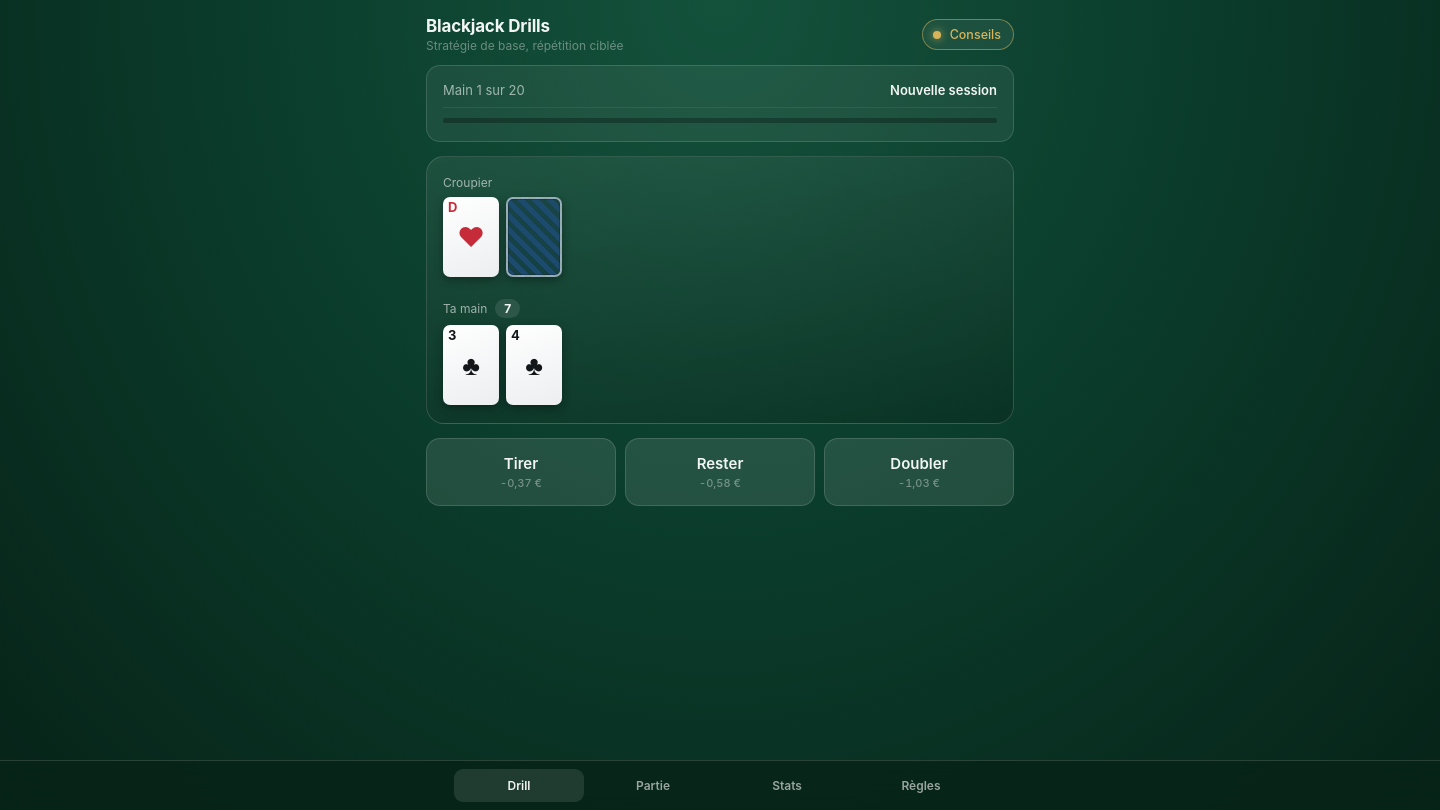
Test case: mode partie › avertit avant de valider un coup perdant quand les conseils sont actifs
Click the button "Partie" at (653, 786), box [588,769,718,802]
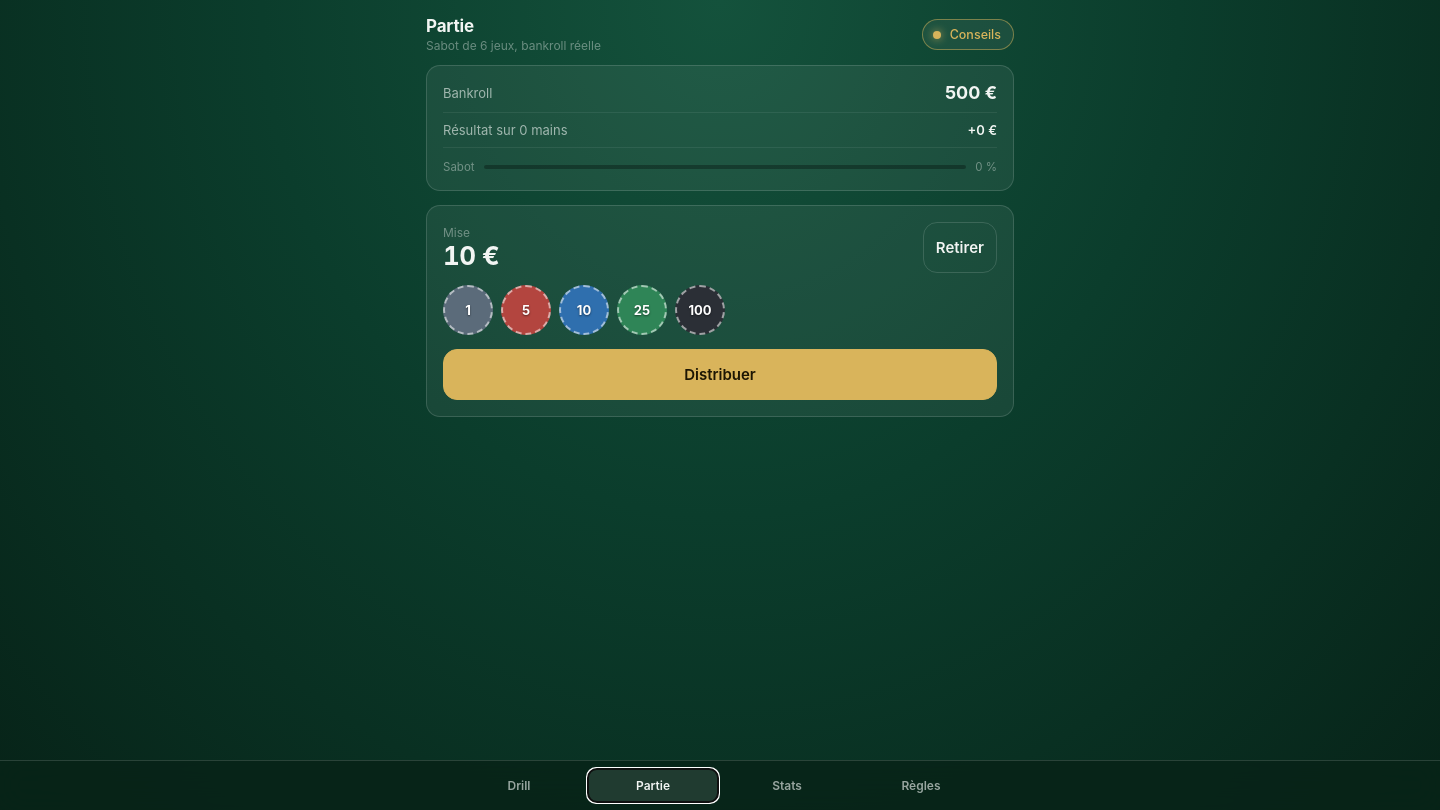
Click the button "Distribuer" at (720, 374), box [443,349,997,400]
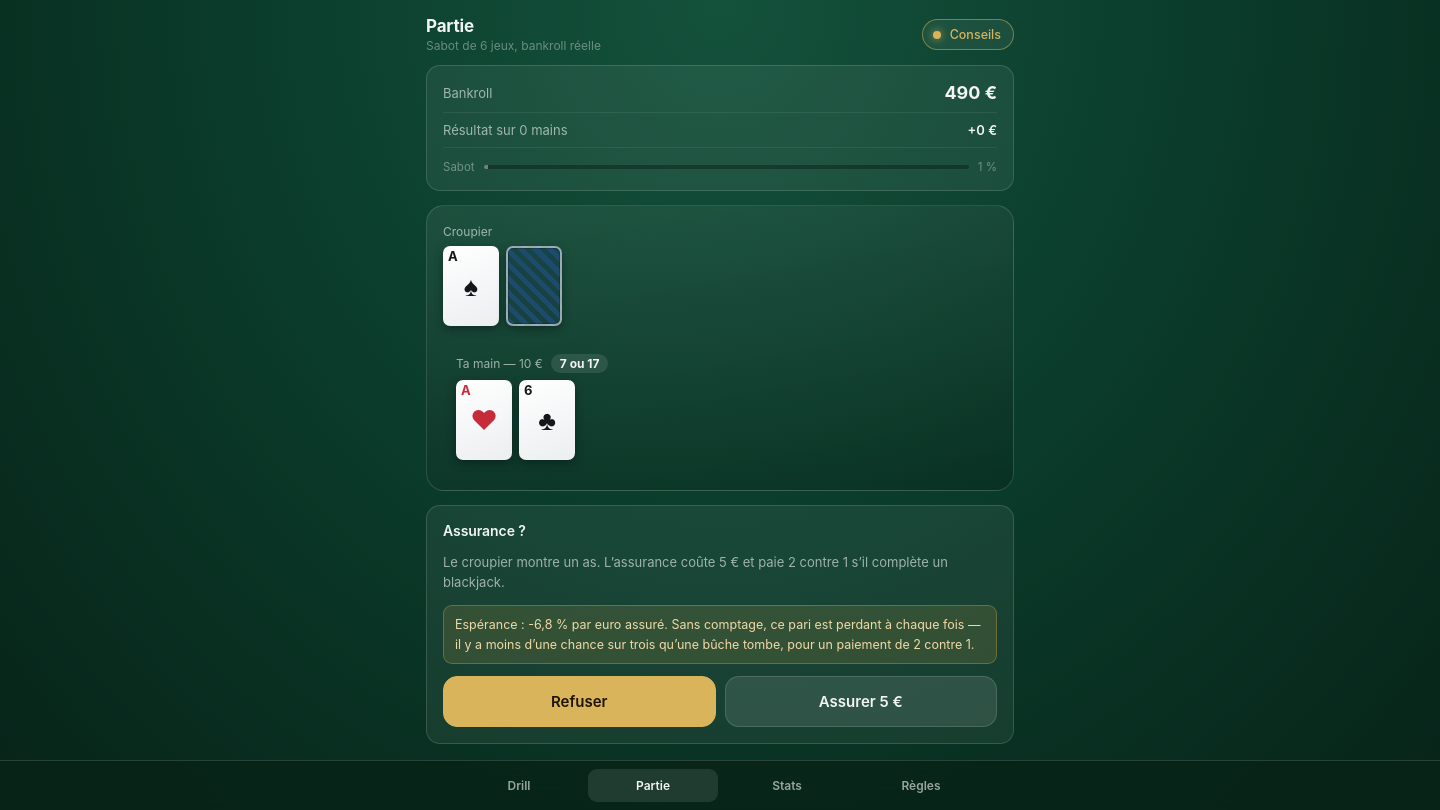
Click the button "Refuser" at (579, 702), box [443,676,716,727]
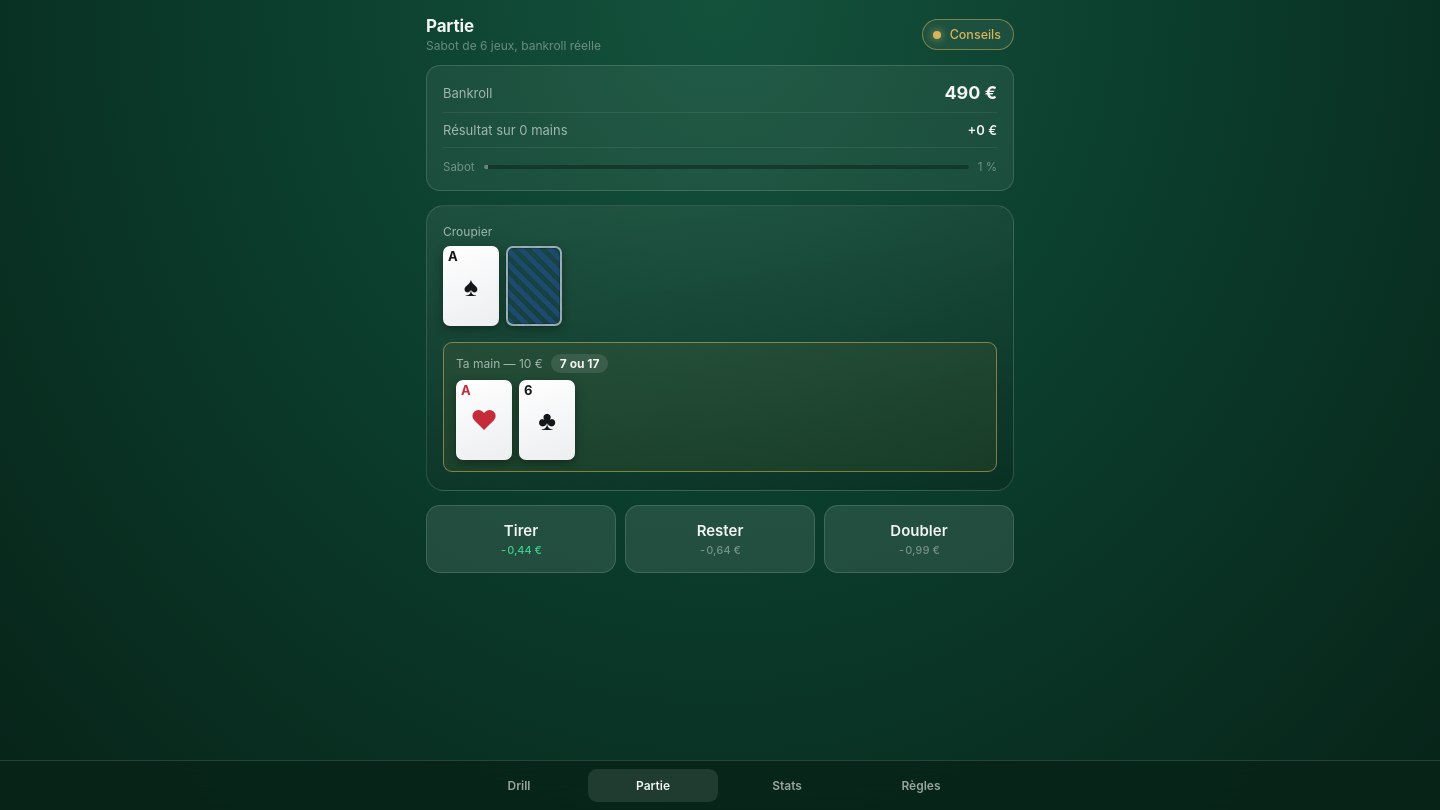
Click the button "Tirer -0,44 €" at (521, 539), box [426,505,616,573]
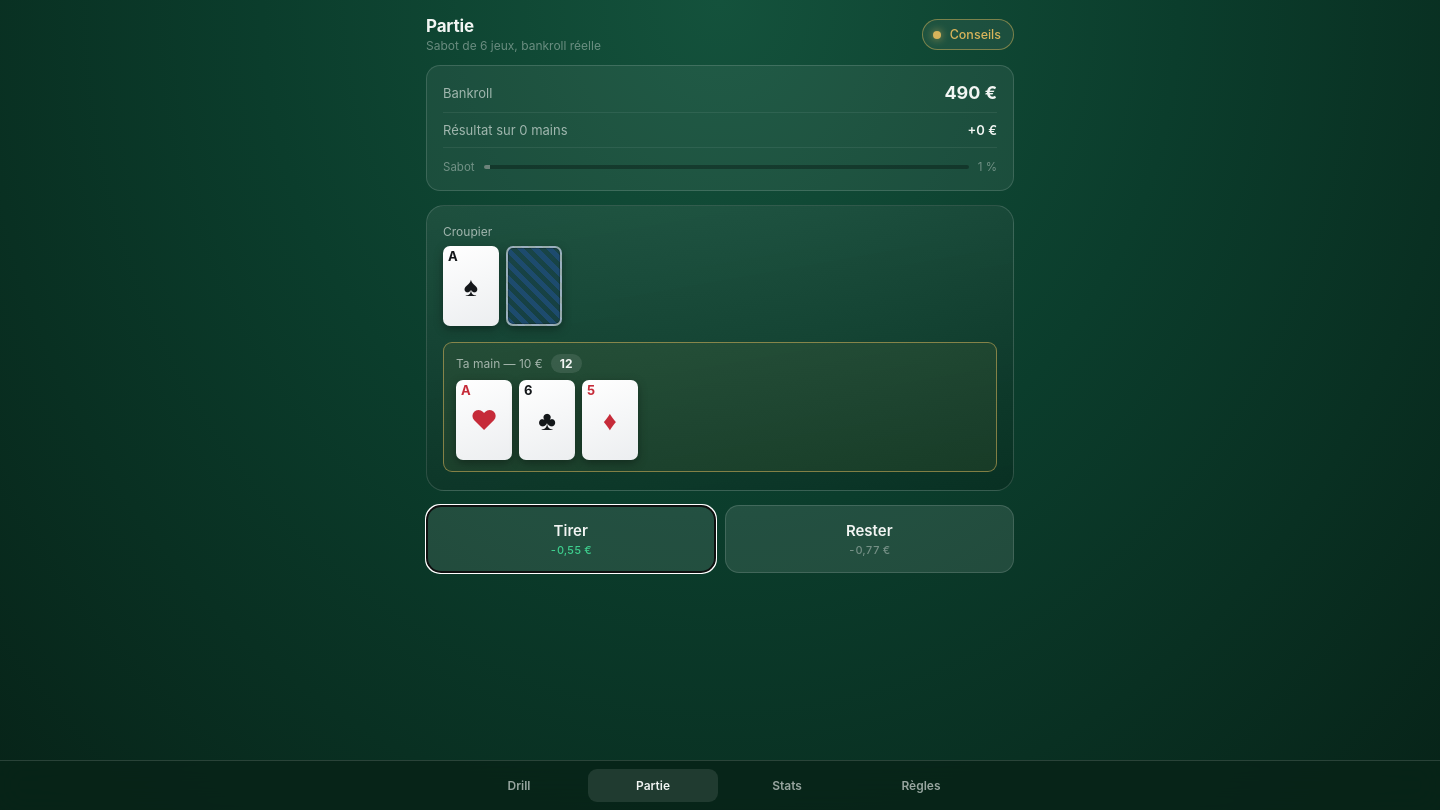
« Tirer » était la bonne action : on recommence avec « Rester ».
Click the button "Rester -0,77 €" at (869, 539), box [724,505,1014,573]
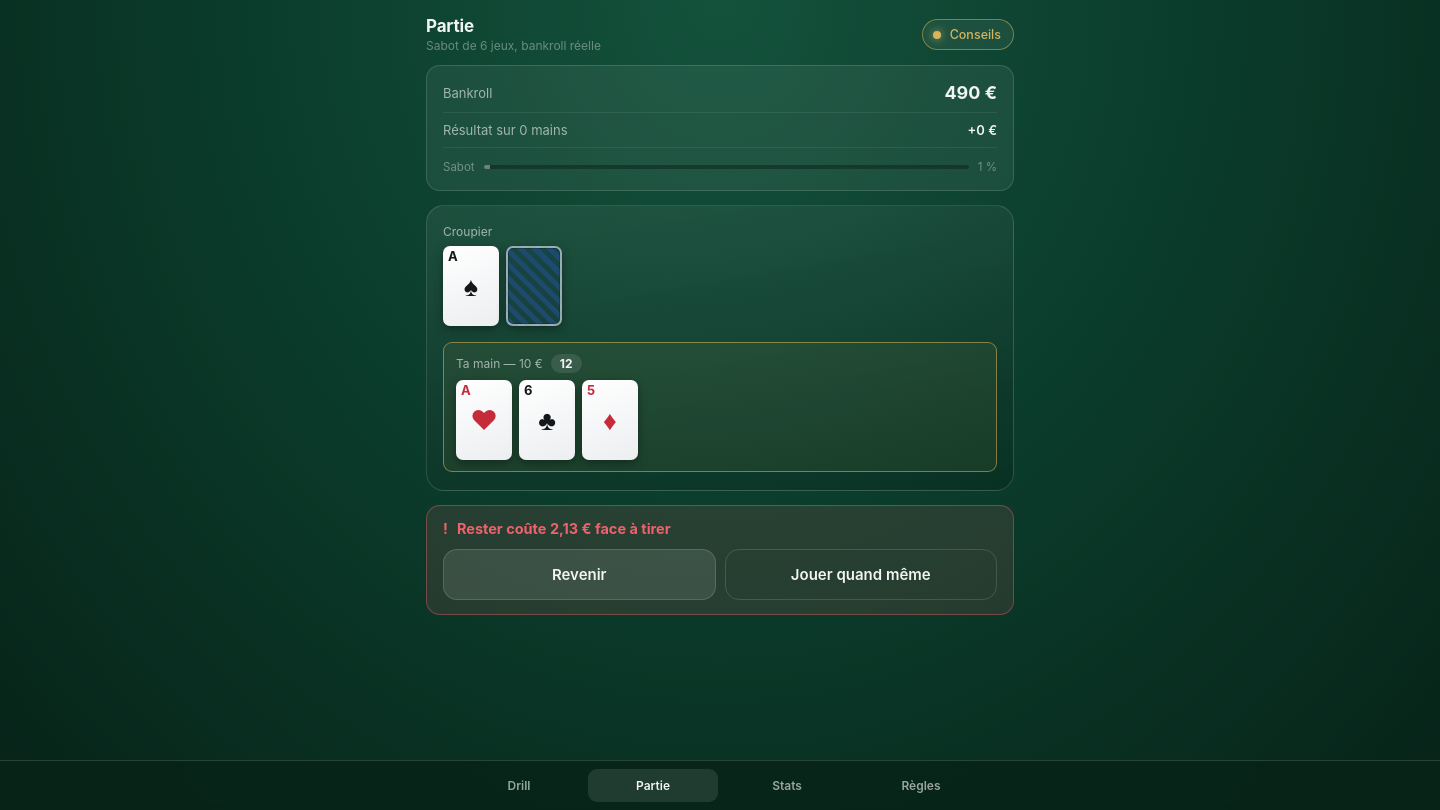
Click the button "Revenir" at (579, 574), box [443,549,716,600]
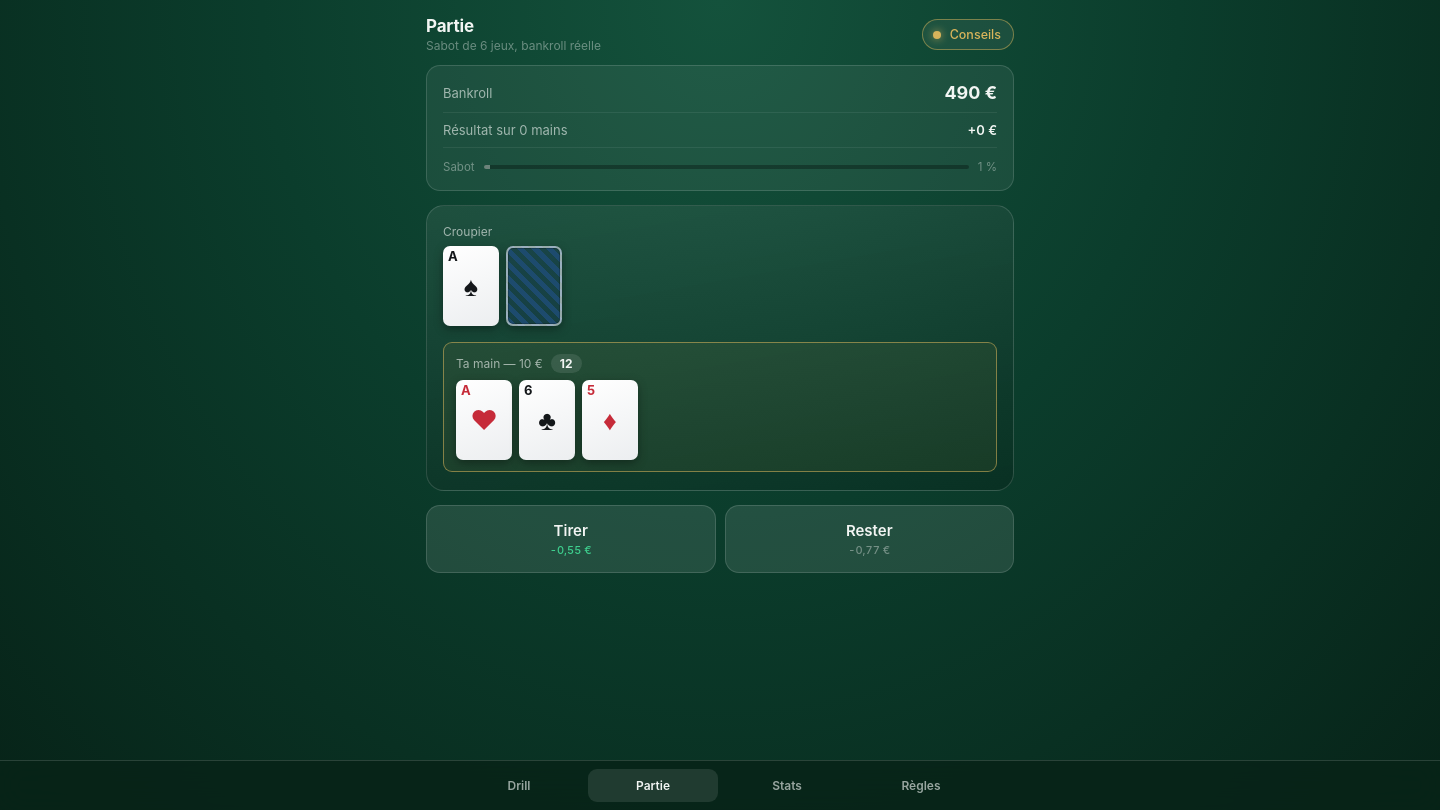
Expected: the button "Revenir" is gone
